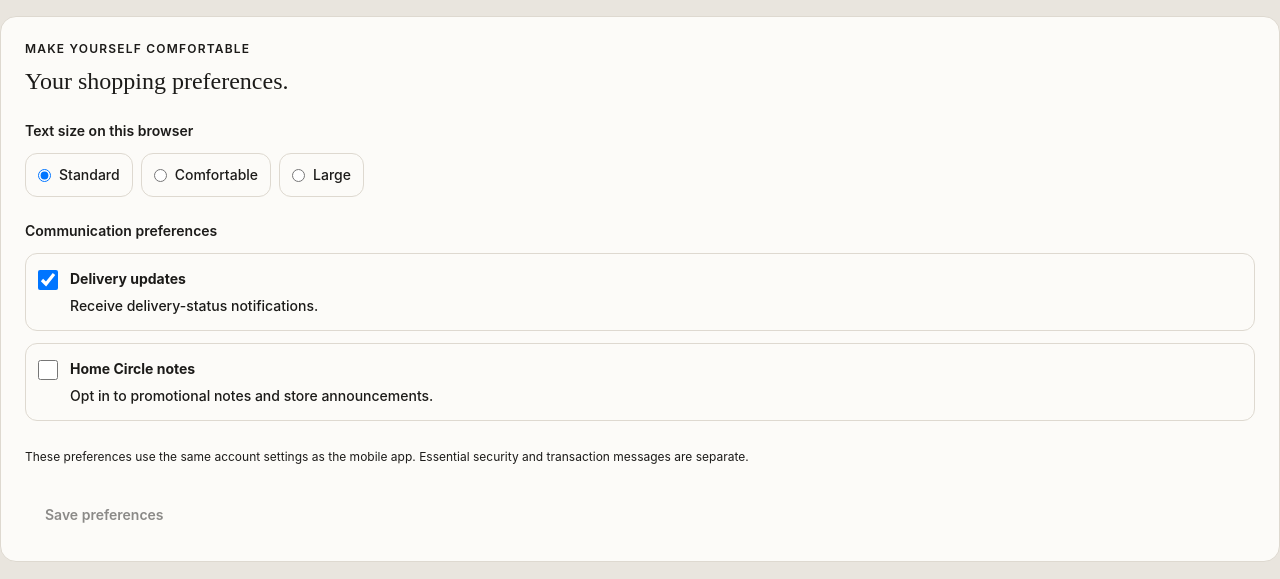
it: account preference journeys › preserves unsaved choices when realtime data arrives
The image size is (1280, 579).
Click the 2nd checkbox.
click(48, 370)  # box x1=38 y1=360 x2=58 y2=380
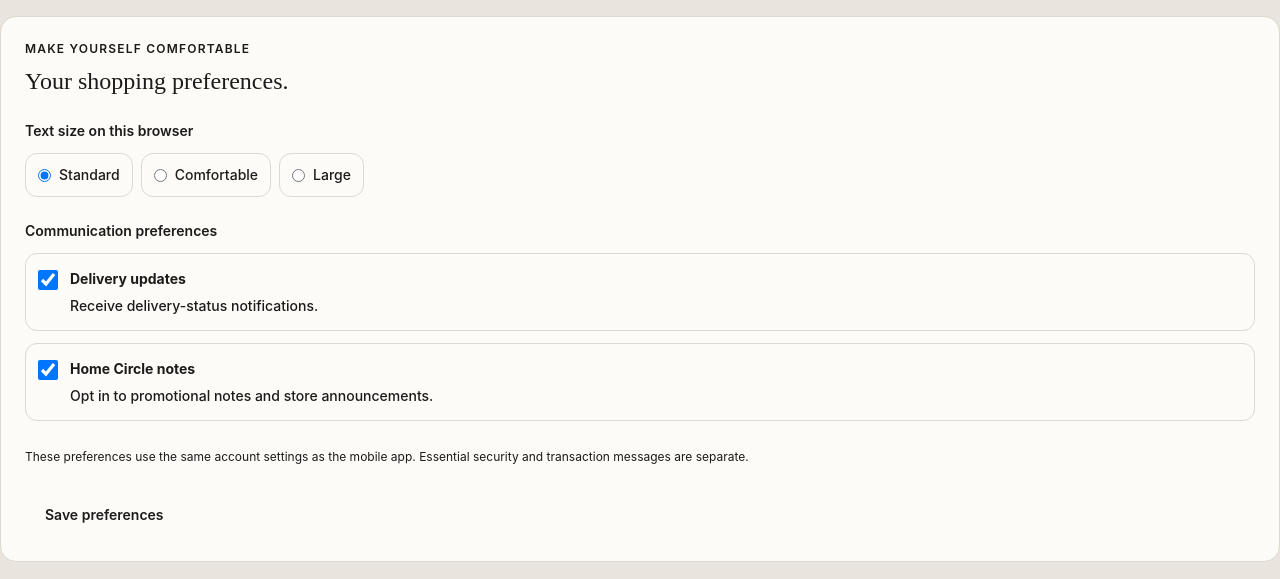
Now the button "Save preferences" is enabled, box x1=25 y1=493 x2=184 y2=537
